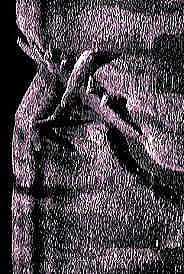aircraft: (15, 35, 142, 146)
